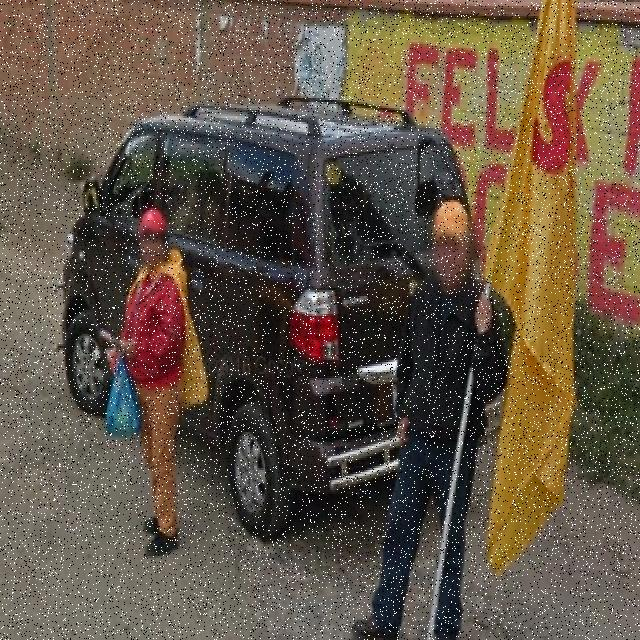cars: (62, 113, 452, 542)
